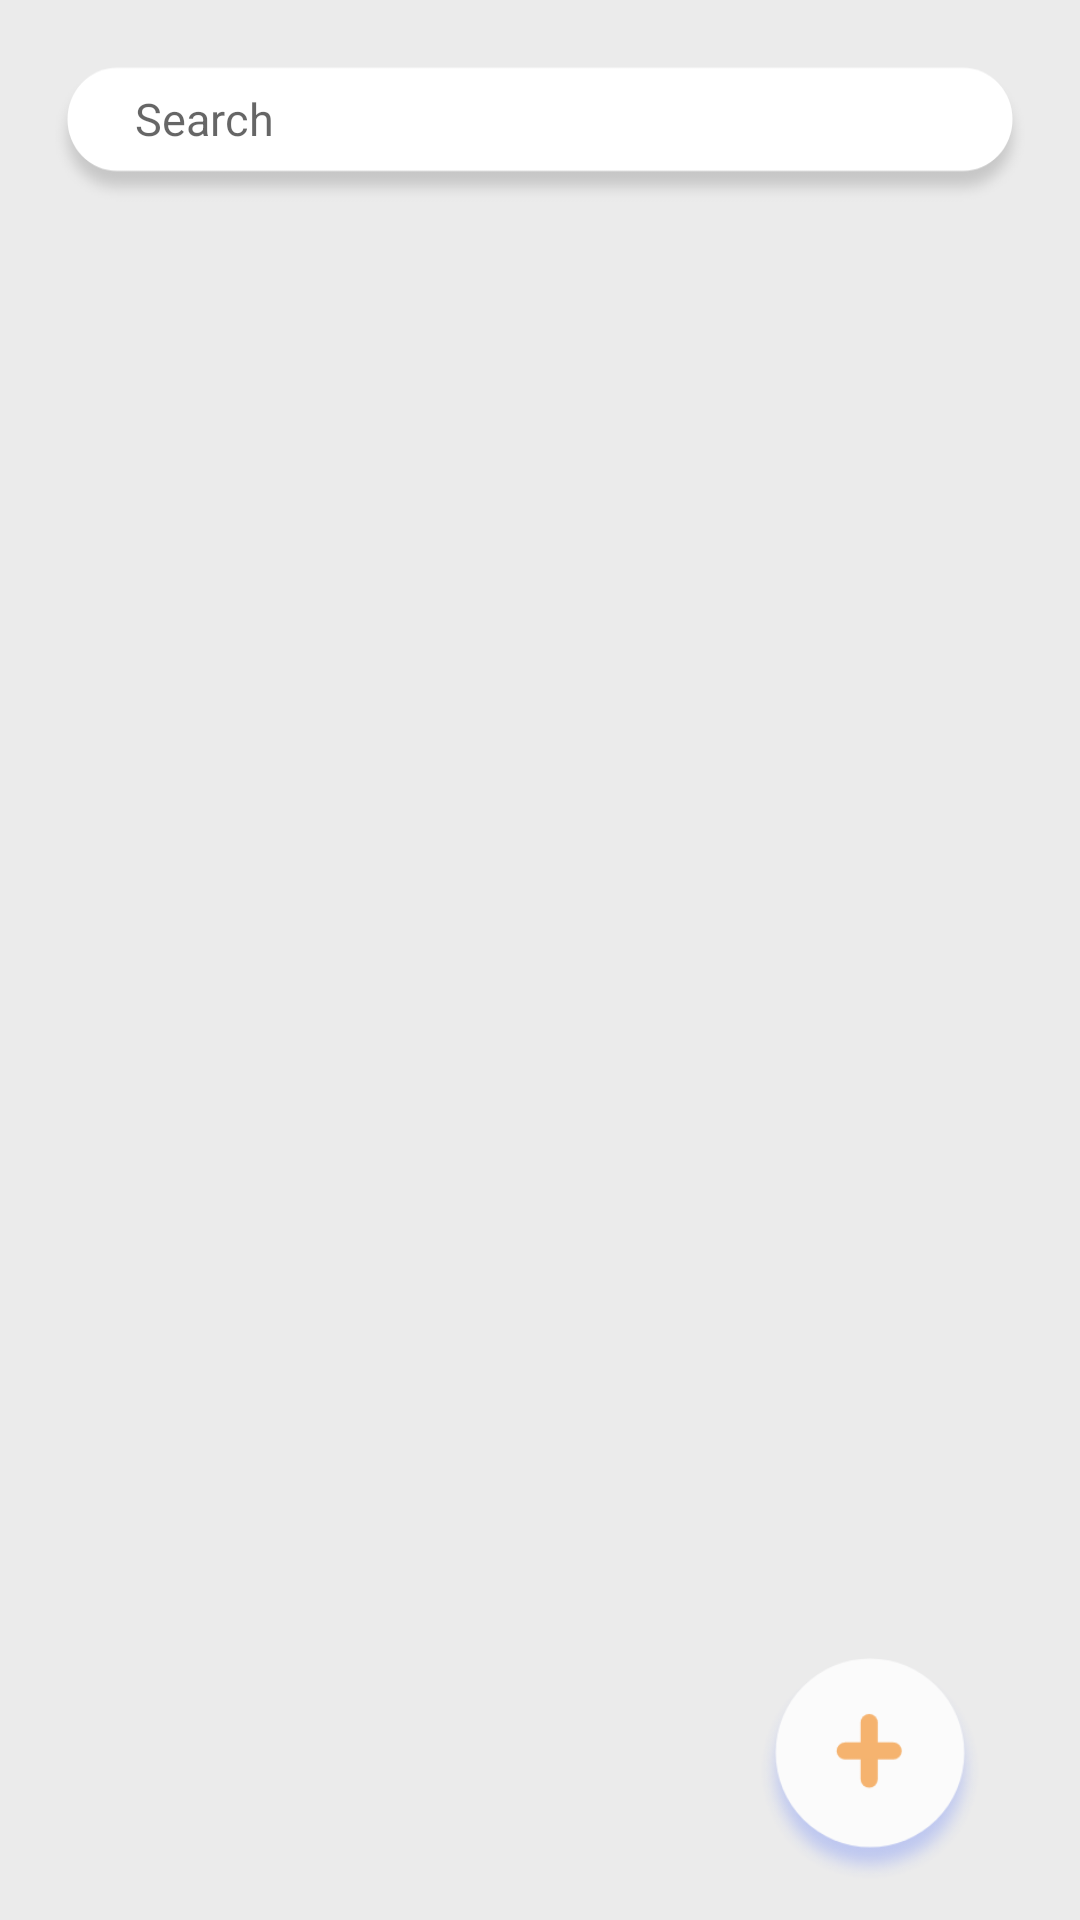

Icon bounding boxes for this 1080px x 1920px phone screenshot, format (x1, y1, x2, y2):
add toggle: (769, 1659, 971, 1871)
